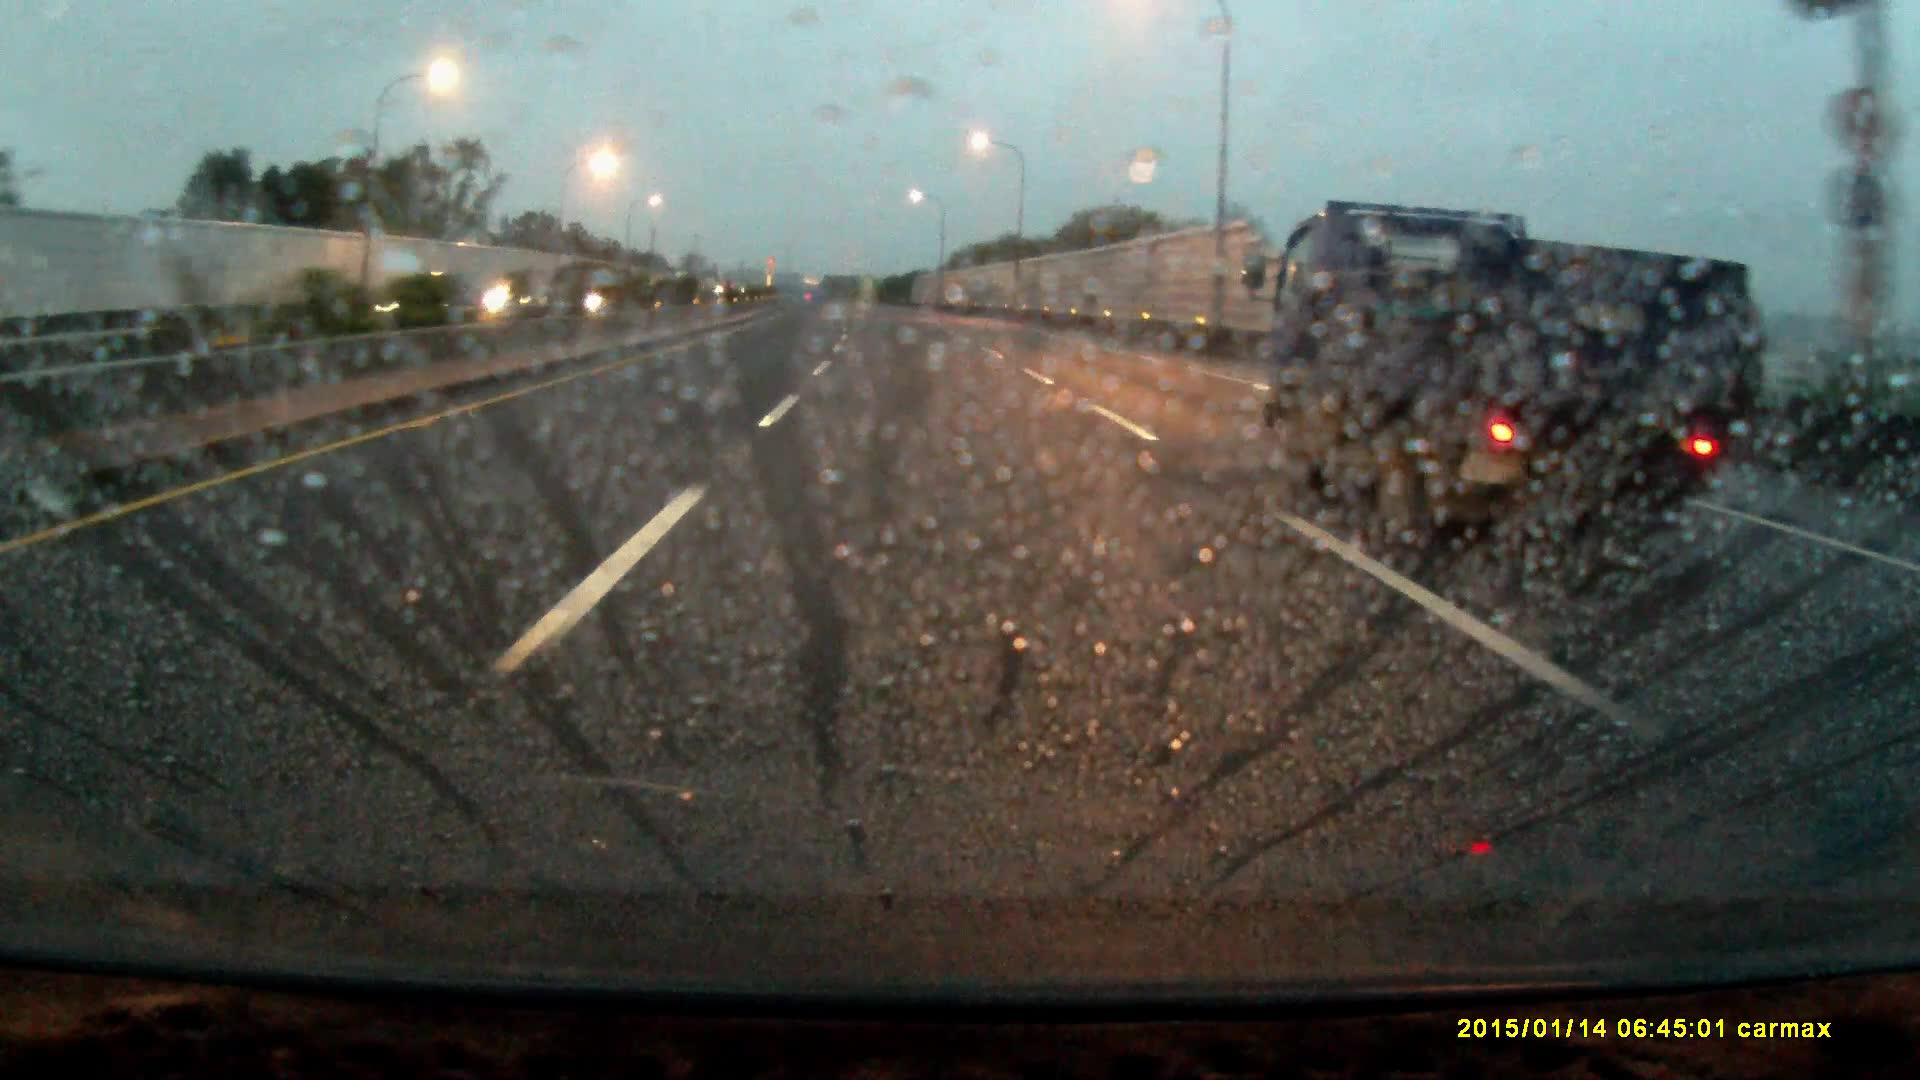vehicle: (1241, 200, 1766, 551)
